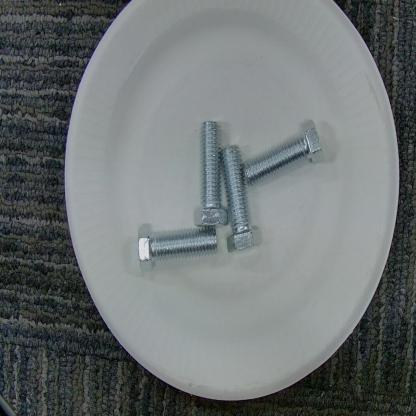FOD: (135, 110, 330, 274)
